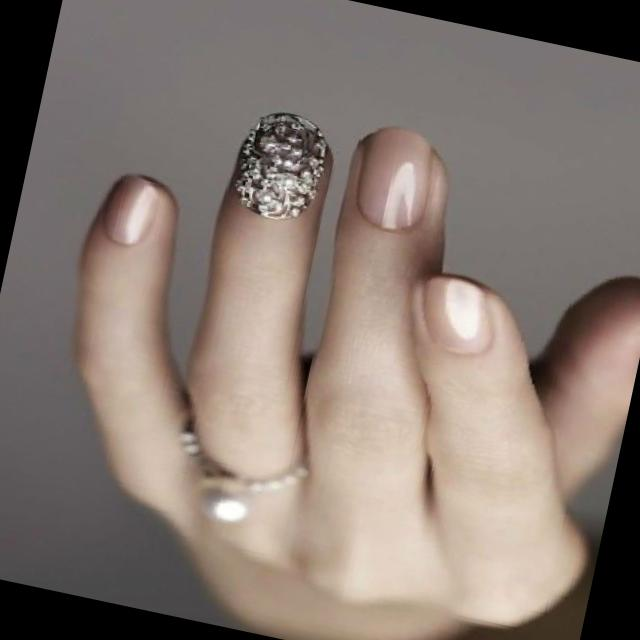Nail: (231, 112, 327, 218), (356, 128, 431, 229), (422, 274, 491, 352), (103, 176, 158, 244)
